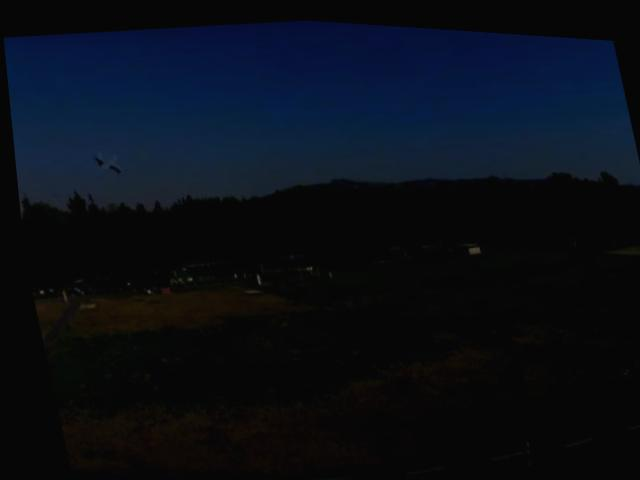iha: (89, 149, 118, 174)
